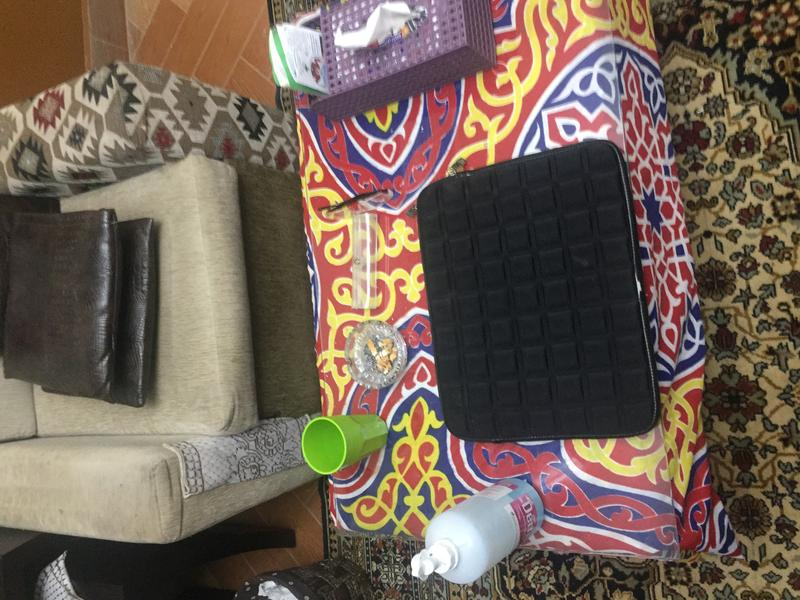cover: (413, 139, 665, 447)
